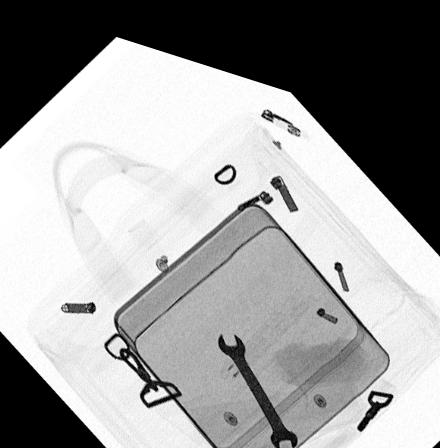Wrench: (214, 315, 297, 434)
